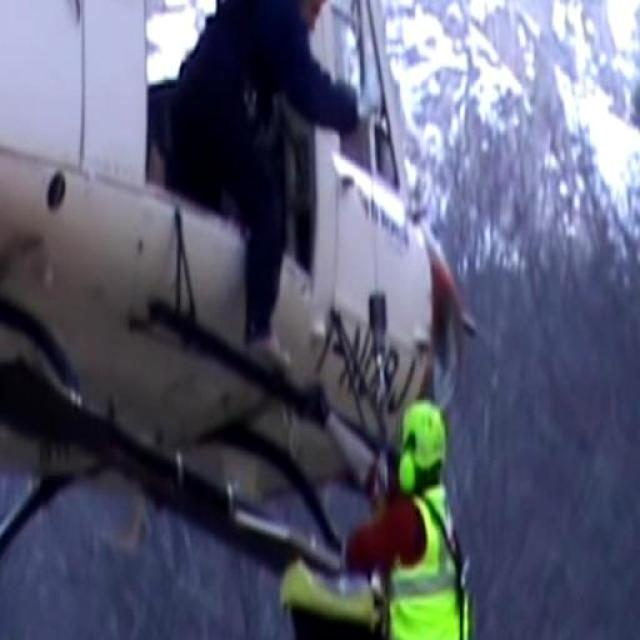drone: (0, 0, 468, 640)
